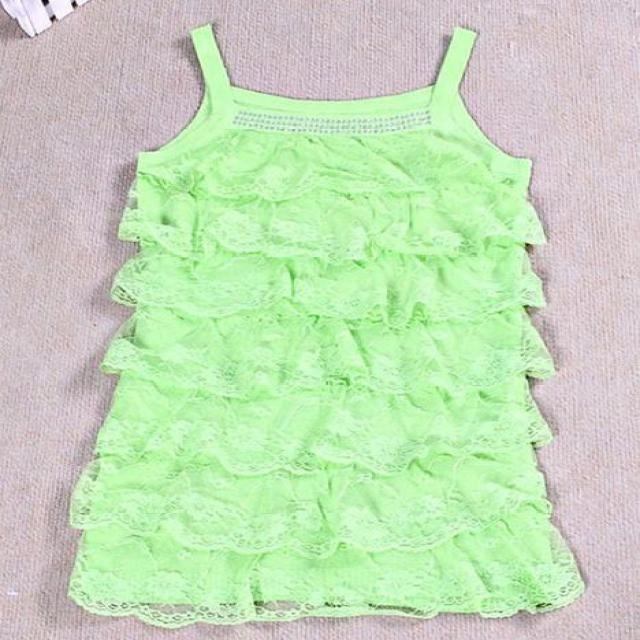sling: (68, 26, 587, 630)
